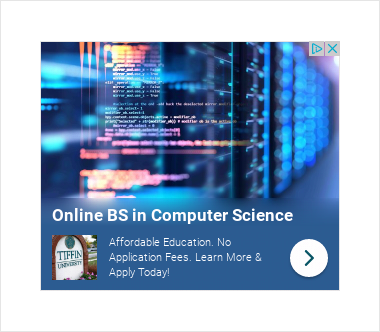fake_button: (287, 230, 335, 278), (300, 39, 340, 62)
